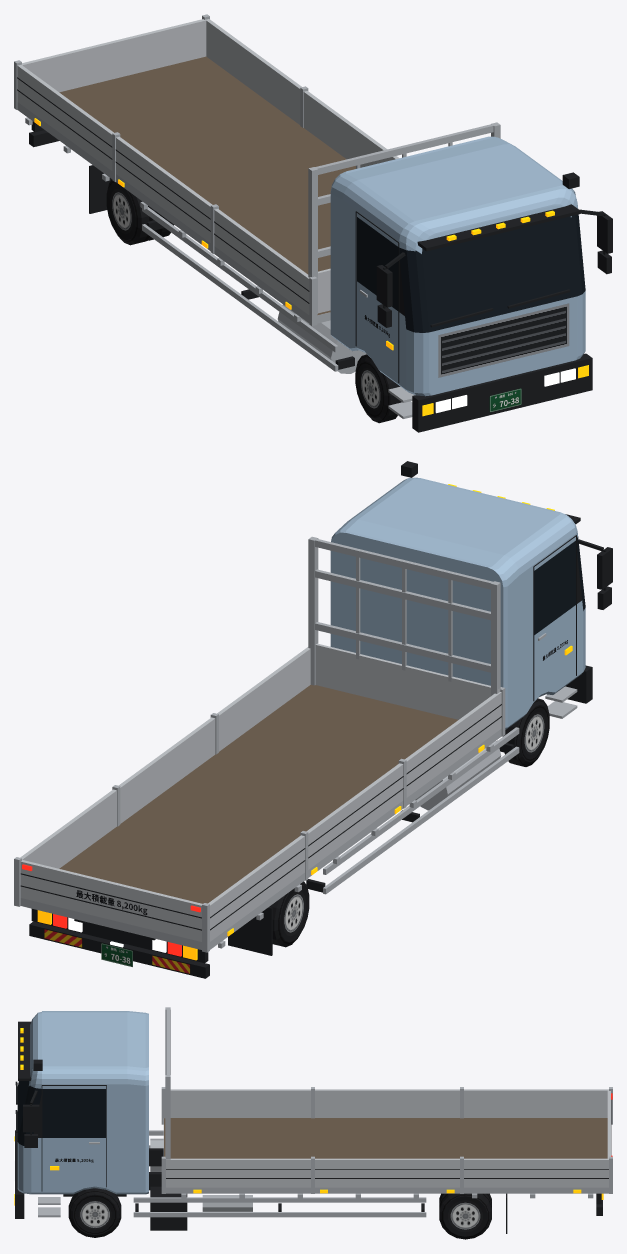
Rendered from truck8t.glb.
3 views of the same model, one above another, from view 1: azimuth 30°, elevation 25°; view 2: azimuth 150°, elevation 25°; view 3: azimuth 270°, elevation 25° (orthographic). The views are drawn at different scales.
Visible parts, largest first — view 1: Body, WheelRR, WheelFR; view 2: Body, WheelFR, WheelRR; view 3: Body, WheelFL, WheelRL.
Boxes of the visible parts, <box> form: Body: <box>14,14,612,432</box>; WheelRR: <box>106,179,173,245</box>; WheelFR: <box>355,354,401,423</box>; Body: <box>14,461,612,978</box>; WheelFR: <box>503,698,549,766</box>; WheelRR: <box>269,881,309,947</box>; Body: <box>14,1007,612,1233</box>; WheelFL: <box>68,1188,121,1237</box>; WheelRL: <box>439,1193,491,1239</box>.
Bounding box in the file's own units: 2.93 × 2.9 × 8.9.
15 materials, 3 textured.
